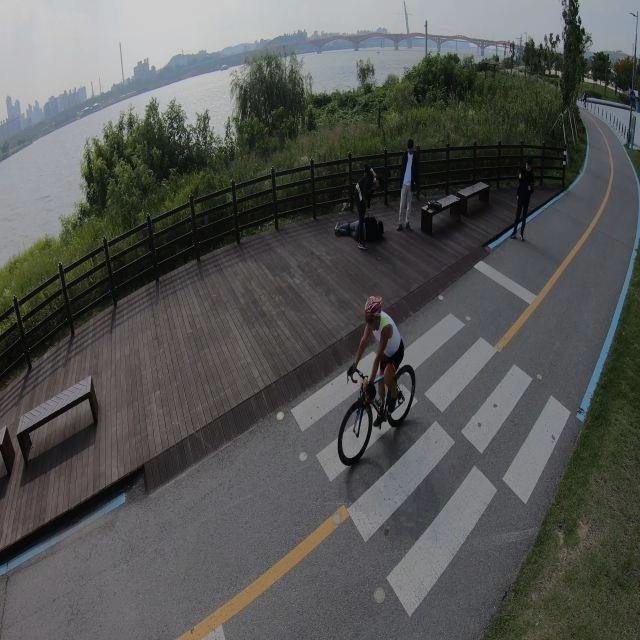fight: (335, 162, 384, 247)
non-fight: (347, 292, 409, 425), (510, 155, 537, 241), (397, 138, 417, 230)
